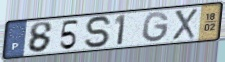1: (114, 14, 127, 46)
5: (58, 19, 79, 50)
8: (28, 21, 54, 54)
G: (142, 11, 171, 44)
S: (84, 15, 115, 49)
X: (171, 7, 199, 41)
